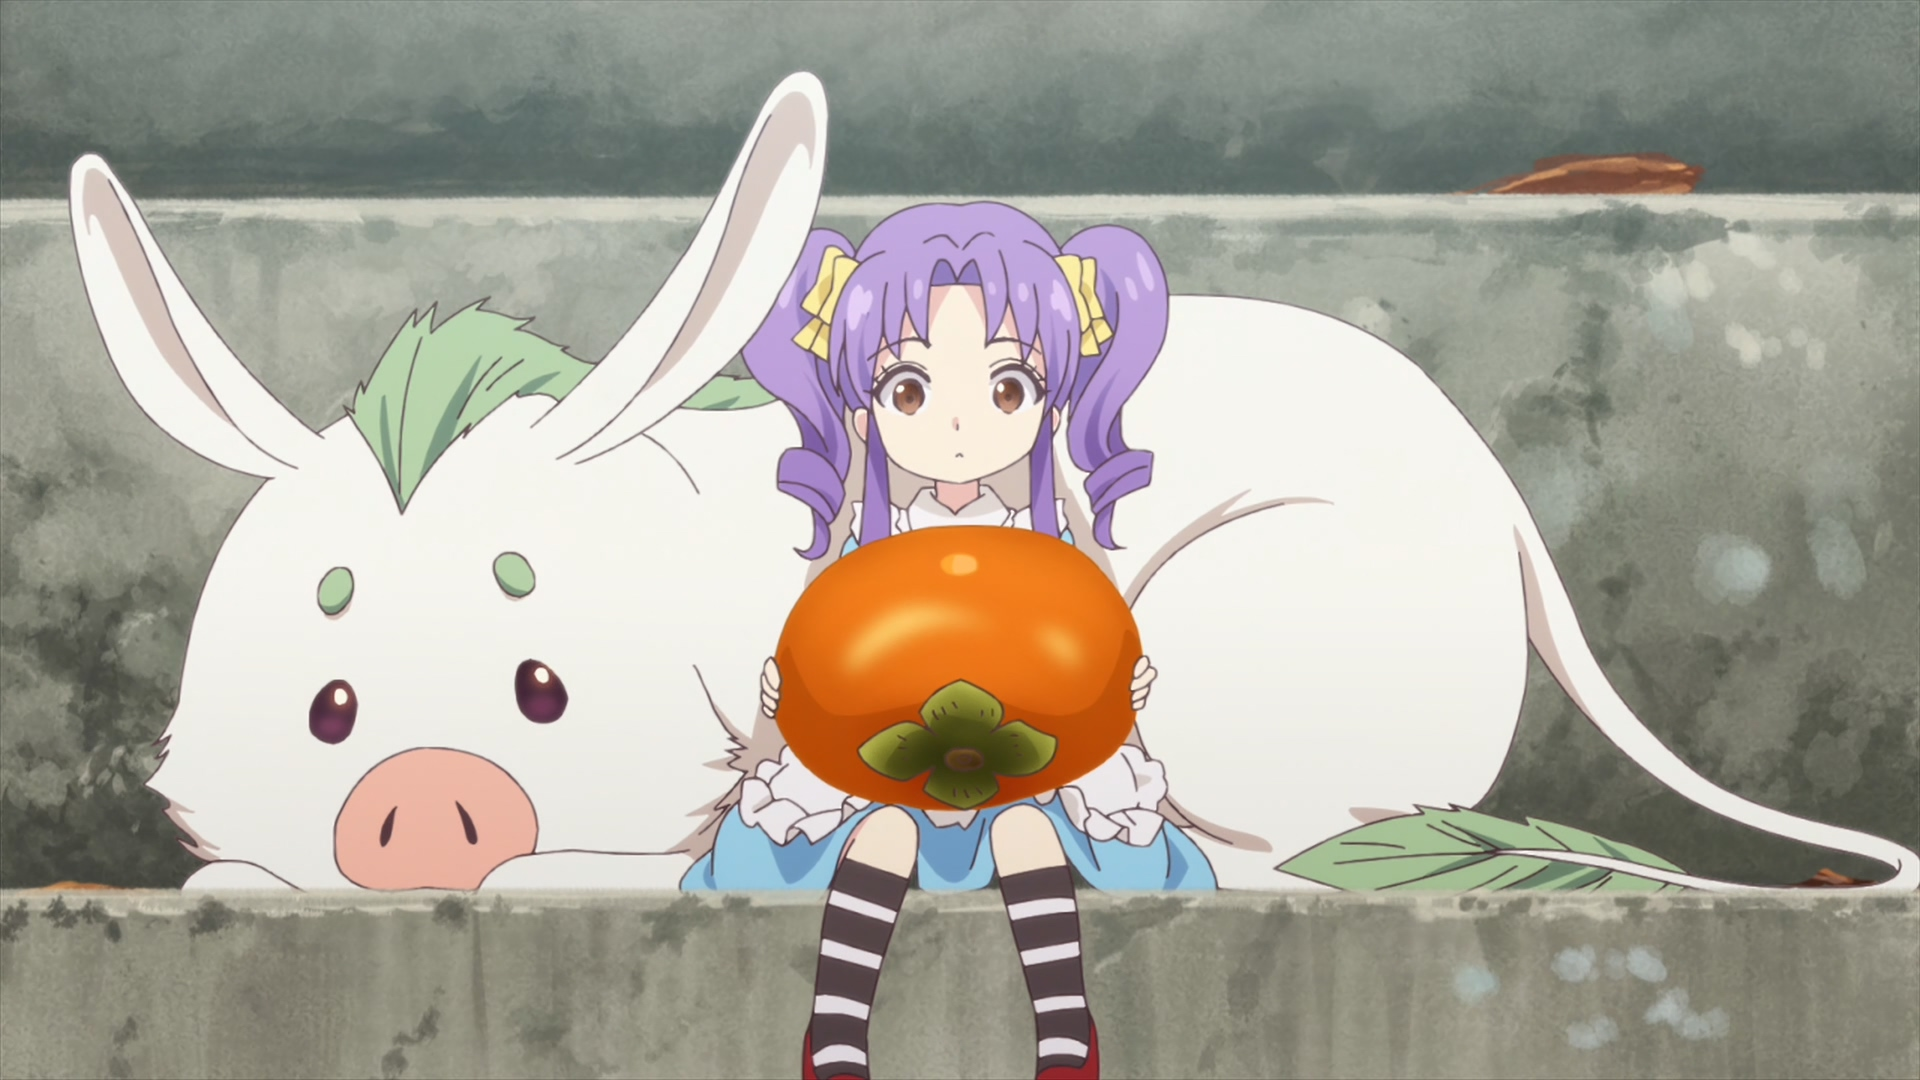瓜之介: (70, 73, 1920, 893)
阿菊: (680, 202, 1218, 1080)
